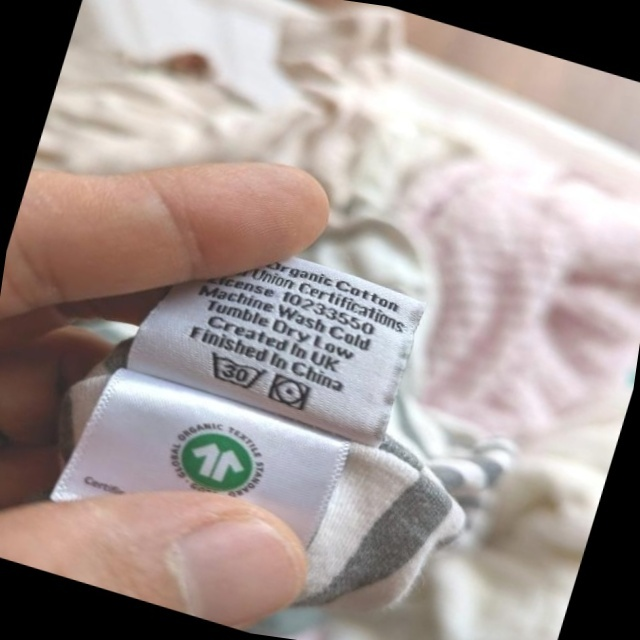30C: (198, 345, 272, 398)
tumble_dry_low: (263, 369, 317, 417)
